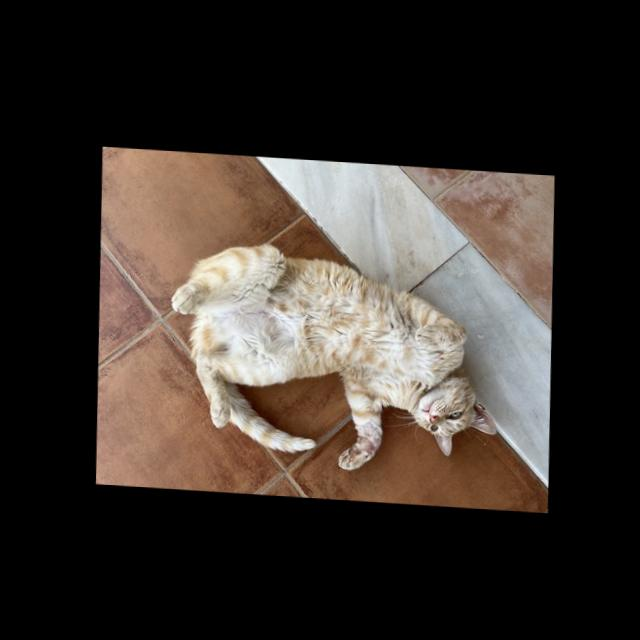animals: (164, 236, 501, 476)
